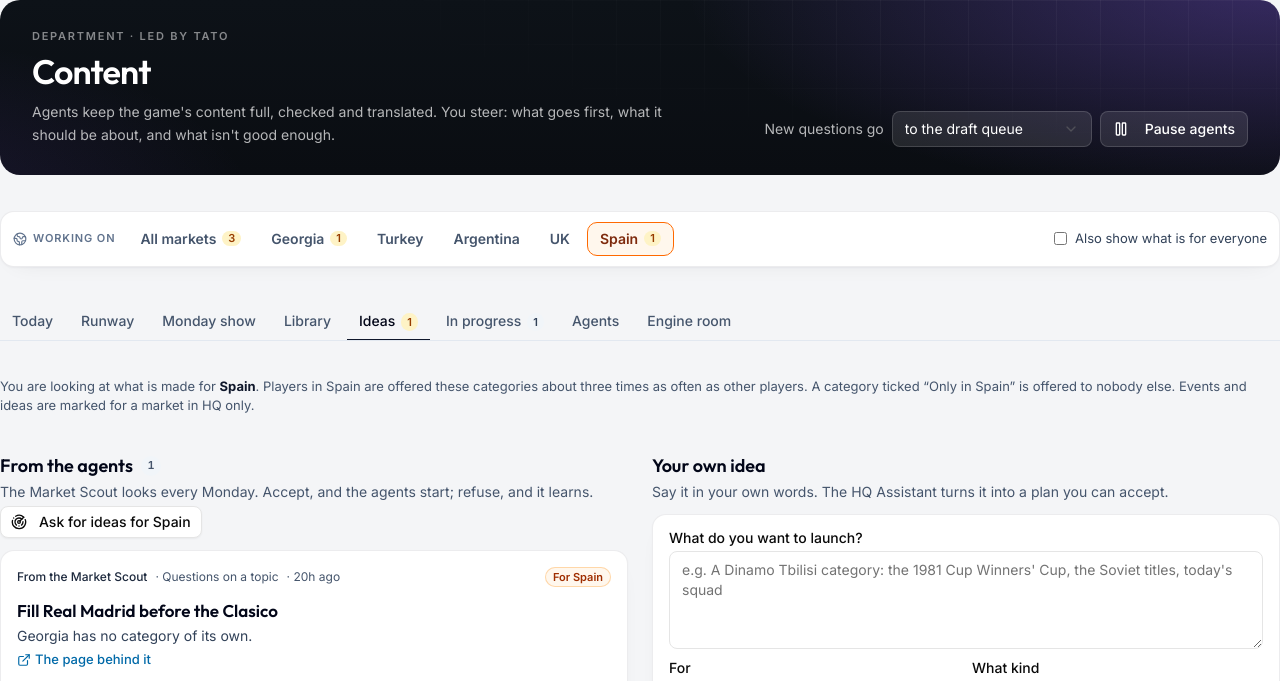
Scenario: keeps an idea half written when the person looks at another tab
Replace the text in the text box labelled "What do you want to launch?" with "A week of Copa del Rey classics" at x=966, y=600, box [669,550,1263,648]
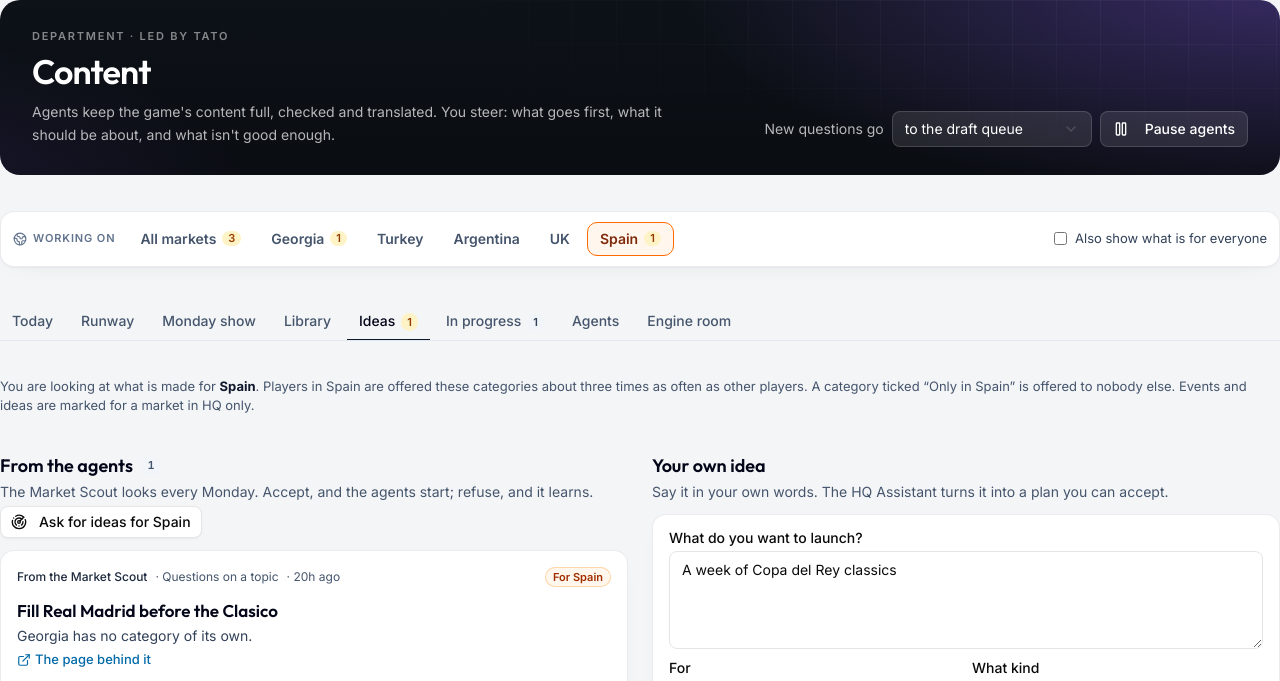
Click the tab "Library" at x=307, y=322, box [272,302,343,340]
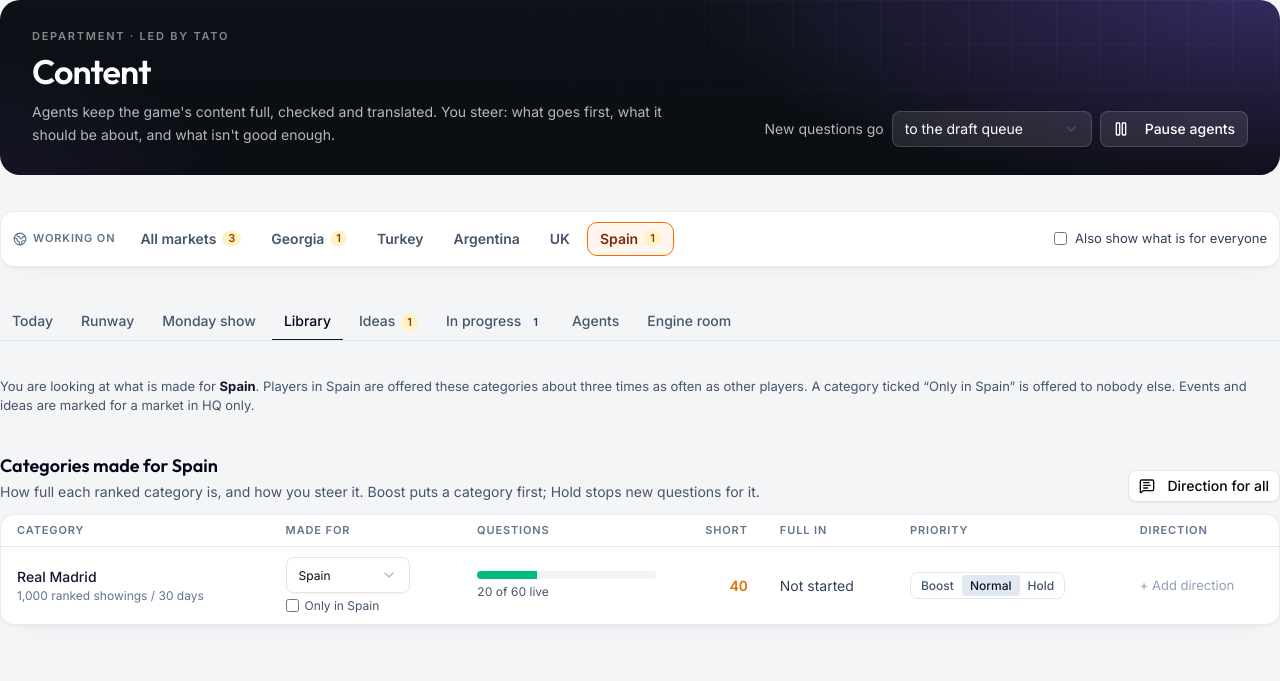
Now the label labelled "What do you want to launch?" is gone
Click the tab "Ideas1" at x=388, y=322, box [347,302,430,340]
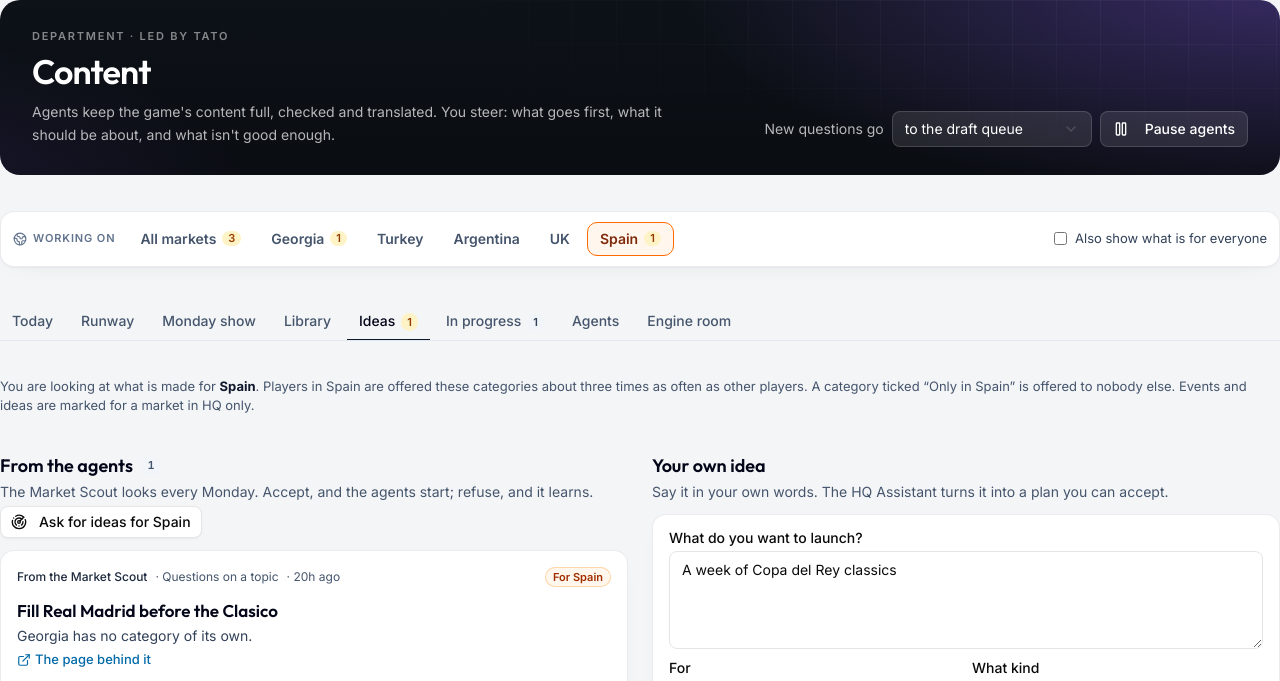
Now the text box labelled "What do you want to launch?" holds "A week of Copa del Rey classics", box [669,550,1263,648]
